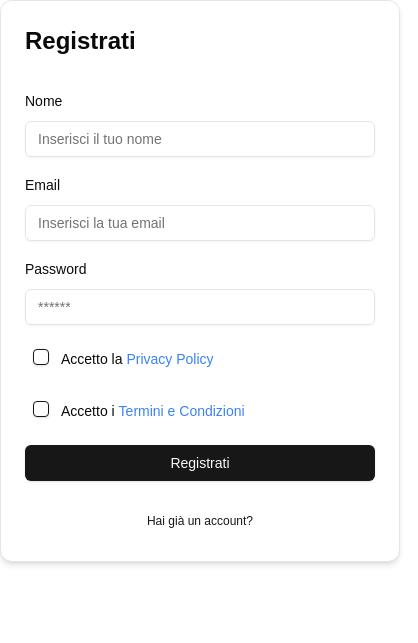
it: RegisterForm › TC_1_RF_1: registrazione riuscita
Type "user@example.com" into the field labelled "Email" at (200,223), box [25,205,375,241]
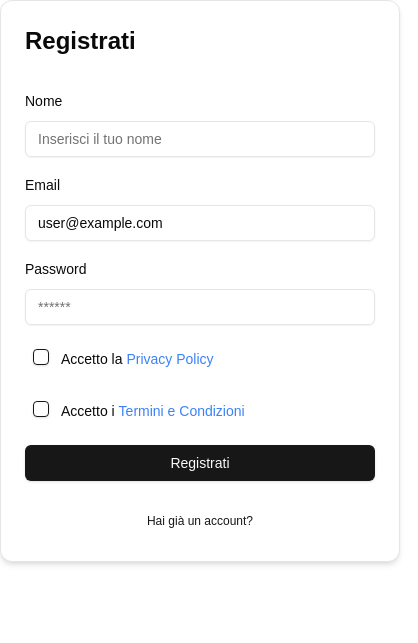
Type "SecurePass1" into the password field labelled "Password" at (200,307), box [25,289,375,325]
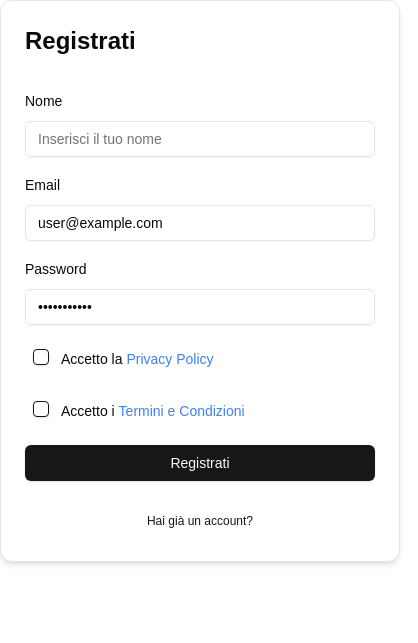
Type "Mario Rossi" into the field labelled "Nome" at (200,139), box [25,121,375,157]
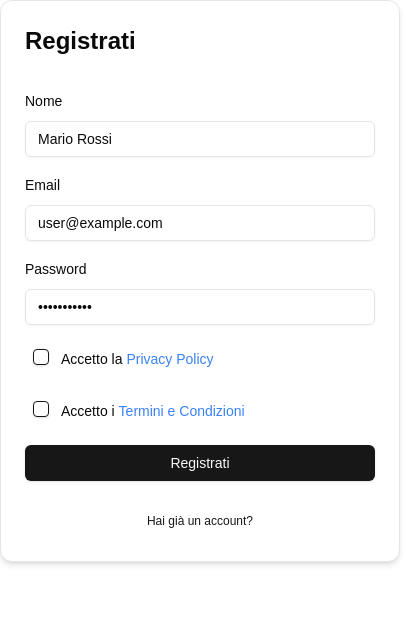
Click the checkbox named "Privacy Policy" next to "Accetto la" at (41,357), box [33,349,49,365]
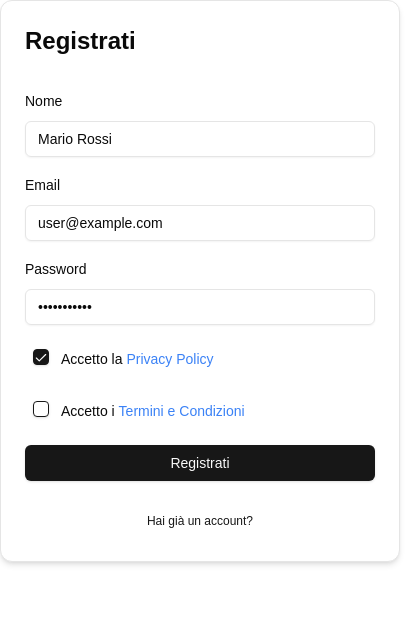
Click the checkbox named "Termini e Condizioni" next to "Accetto i" at (41,409), box [33,401,49,417]
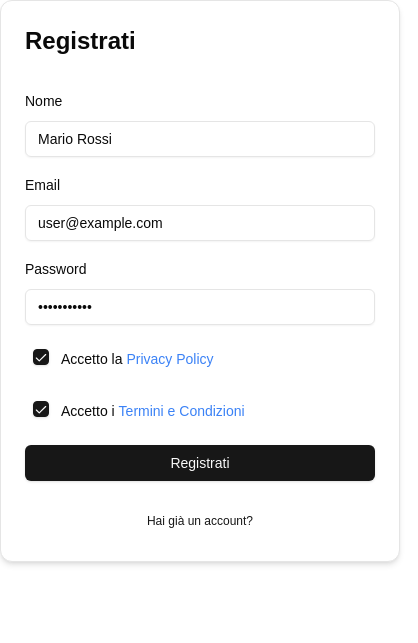
Click the button "Registrati" at (200,463), box [25,445,375,481]
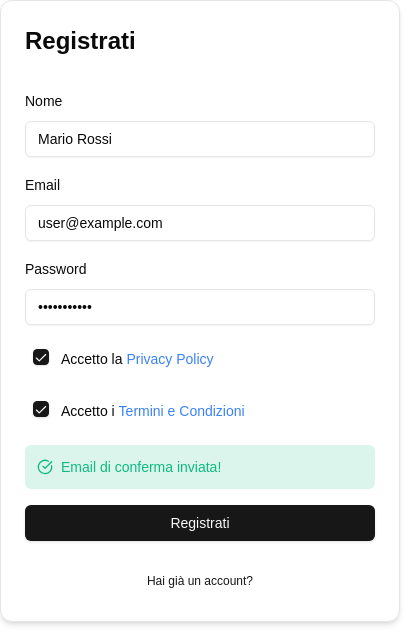
Expected: the text "Email di conferma inviata!" is shown, [61,457,221,477]
